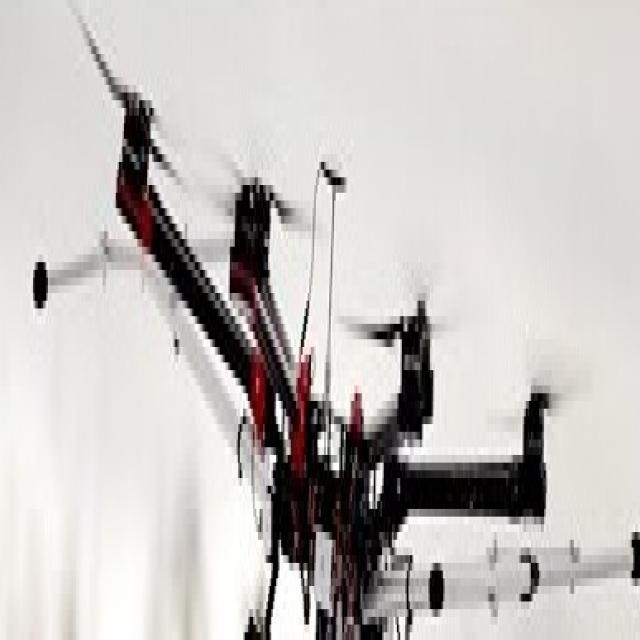drone: (35, 0, 625, 636)
